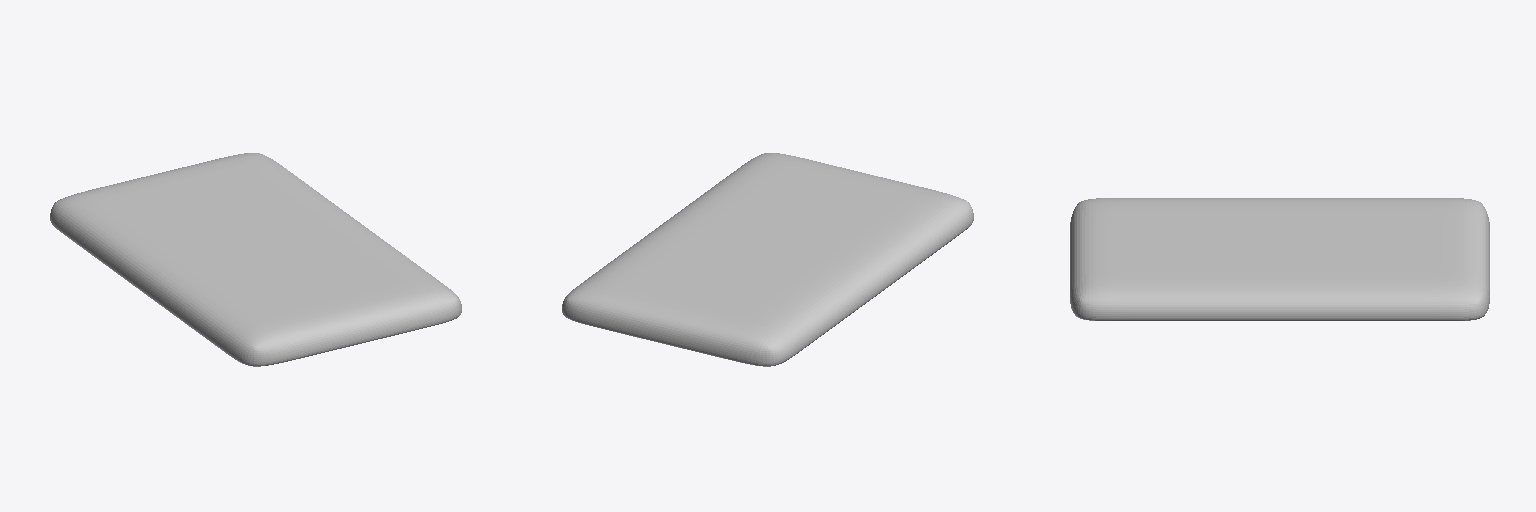
File: Matress.obj
3 renders of one model, left to right at view 1: azimuth 30°, elevation 25°; view 2: azimuth 150°, elevation 25°; view 3: azimuth 270°, elevation 25°, orthographic.
Parts seen in each view (by area): view 1: Matress_Cube.010; view 2: Matress_Cube.010; view 3: Matress_Cube.010.
Part boxes in pixels (x1,y1,x2,y2): Matress_Cube.010: (50,153,461,366); Matress_Cube.010: (562,153,973,366); Matress_Cube.010: (1070,198,1489,320).
Bounding box in the file's own units: 6.04 × 0.6733 × 9.83.